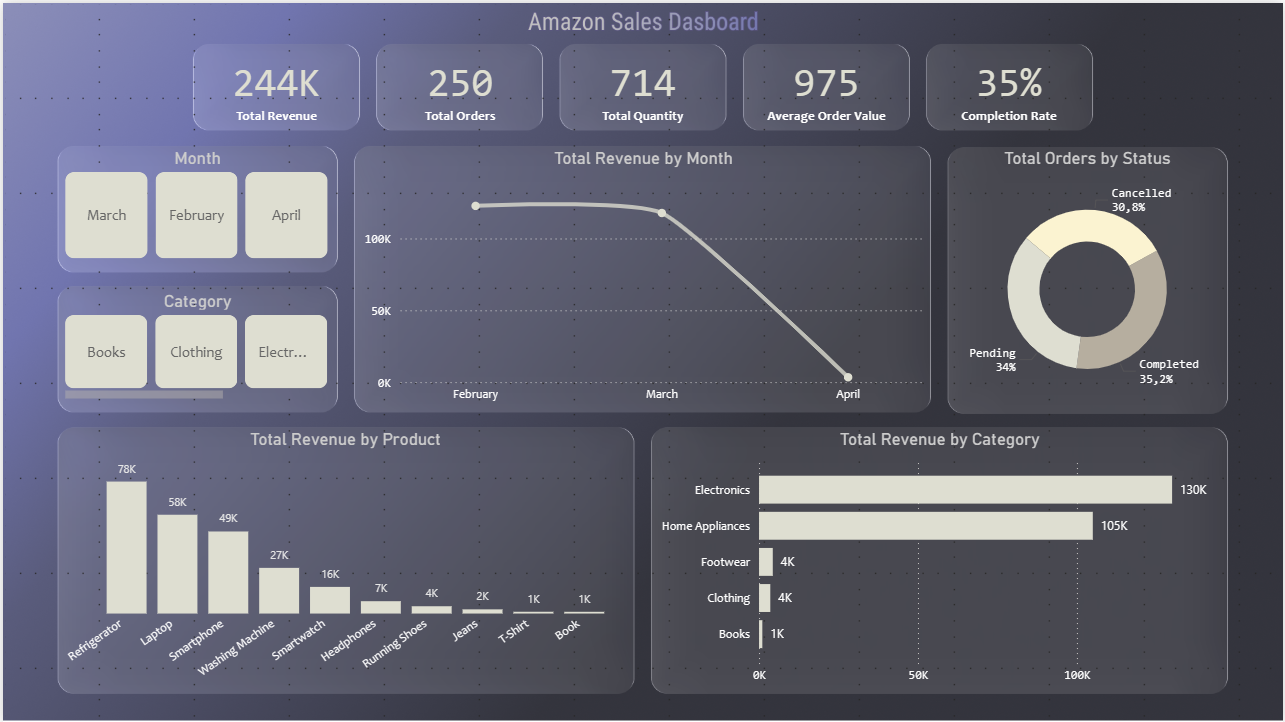

The dashboard page shown, as its layout file describes it:
{"tool":"powerbi","page":{"name":"Page 1","canvas":[1280,720],"ordinal":0},"visuals":[{"type":"card","fields":{"Values":["amazon_sales.Total Revenue"]},"box":[191.2,42.5,165,85],"z":0},{"type":"card","fields":{"Values":["amazon_sales.Total Orders"]},"box":[374.4,42.5,165,85],"z":1000},{"type":"card","fields":{"Values":["amazon_sales.Total Quantity"]},"box":[557.5,42.5,165,85],"z":2000},{"type":"card","fields":{"Values":["amazon_sales.Completion Rate"]},"box":[923.8,42.5,165,85],"z":3000},{"type":"card","fields":{"Values":["amazon_sales.Average Order Value"]},"box":[741.2,42.5,165,85],"z":4000},{"type":"barChart","fields":{"Category":["amazon_sales.Category"],"Y":["amazon_sales.Total Revenue"]},"box":[651.2,426.2,571.2,262.5],"z":5000},{"type":"lineChart","fields":{"Category":["amazon_sales.Date.Variation.Date Hierarchy.Month","amazon_sales.Date.Variation.Date Hierarchy.Day"],"Y":["amazon_sales.Total Revenue"]},"box":[355.7,145.2,568.6,263.4],"z":6000},{"type":"columnChart","fields":{"Category":["amazon_sales.Product"],"Y":["amazon_sales.Total Revenue"]},"box":[57.5,426.2,570,262.5],"z":7000},{"type":"donutChart","fields":{"Category":["amazon_sales.Status"],"Y":["amazon_sales.Total Orders"]},"box":[946.2,145,276.2,263.8],"z":8000},{"type":"advancedSlicerVisual","title":"Month","fields":{"Values":["amazon_sales.Month Name"]},"box":[57.8,145.2,274.5,120.6],"z":9000},{"type":"advancedSlicerVisual","title":"Category","fields":{"Values":["amazon_sales.Category"]},"box":[57.8,288,274.5,120.6],"z":10000}]}

Visuals, with their boxes in screenshot pixels (x1, y1, x2, y2), scaled from the page's 1280x720 canvas onto the 1285x722 screenshot:
card - amazon_sales.Total Revenue: 192/43/358/128
card - amazon_sales.Total Orders: 376/43/542/128
card - amazon_sales.Total Quantity: 560/43/725/128
card - amazon_sales.Completion Rate: 927/43/1093/128
card - amazon_sales.Average Order Value: 744/43/910/128
barChart - amazon_sales.Category x amazon_sales.Total Revenue: 654/427/1227/691
lineChart - amazon_sales.Date.Variation.Date Hierarchy.Month x amazon_sales.Date.Variation.Date Hierarchy.Day: 357/146/928/410
columnChart - amazon_sales.Product x amazon_sales.Total Revenue: 58/427/630/691
donutChart - amazon_sales.Status x amazon_sales.Total Orders: 950/145/1227/410
"Month" advancedSlicerVisual: 58/146/334/267
"Category" advancedSlicerVisual: 58/289/334/410
